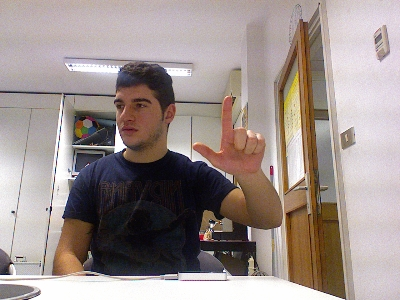枪: (190, 93, 266, 175)
